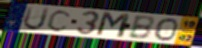3: (75, 11, 102, 36)
B: (127, 15, 156, 41)
C: (45, 9, 73, 33)
M: (94, 11, 133, 40)
O: (153, 17, 180, 42)
U: (22, 5, 52, 32)
